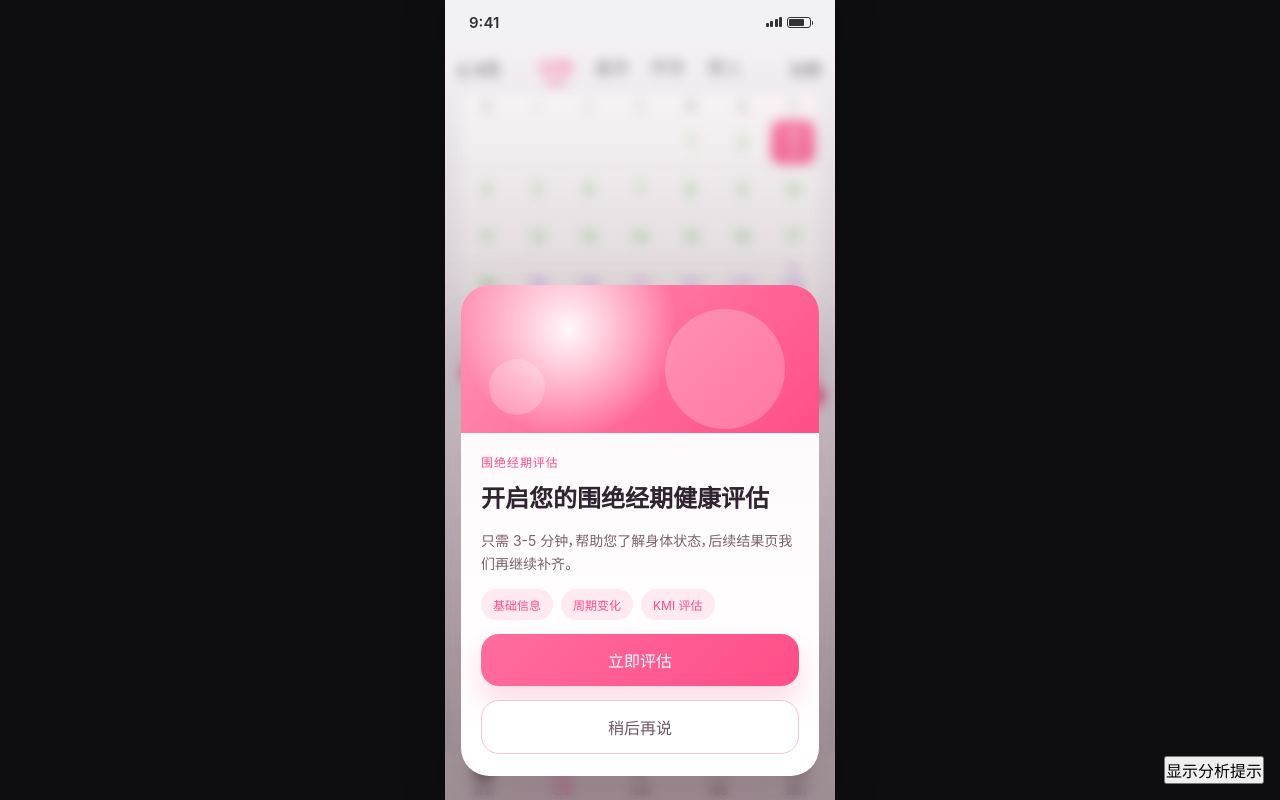
Test: scene1 ui › navigates to the assessment result preview from the scene1 analysis entry
Click the button "稍后再说": (640,727) [481,700,799,754]
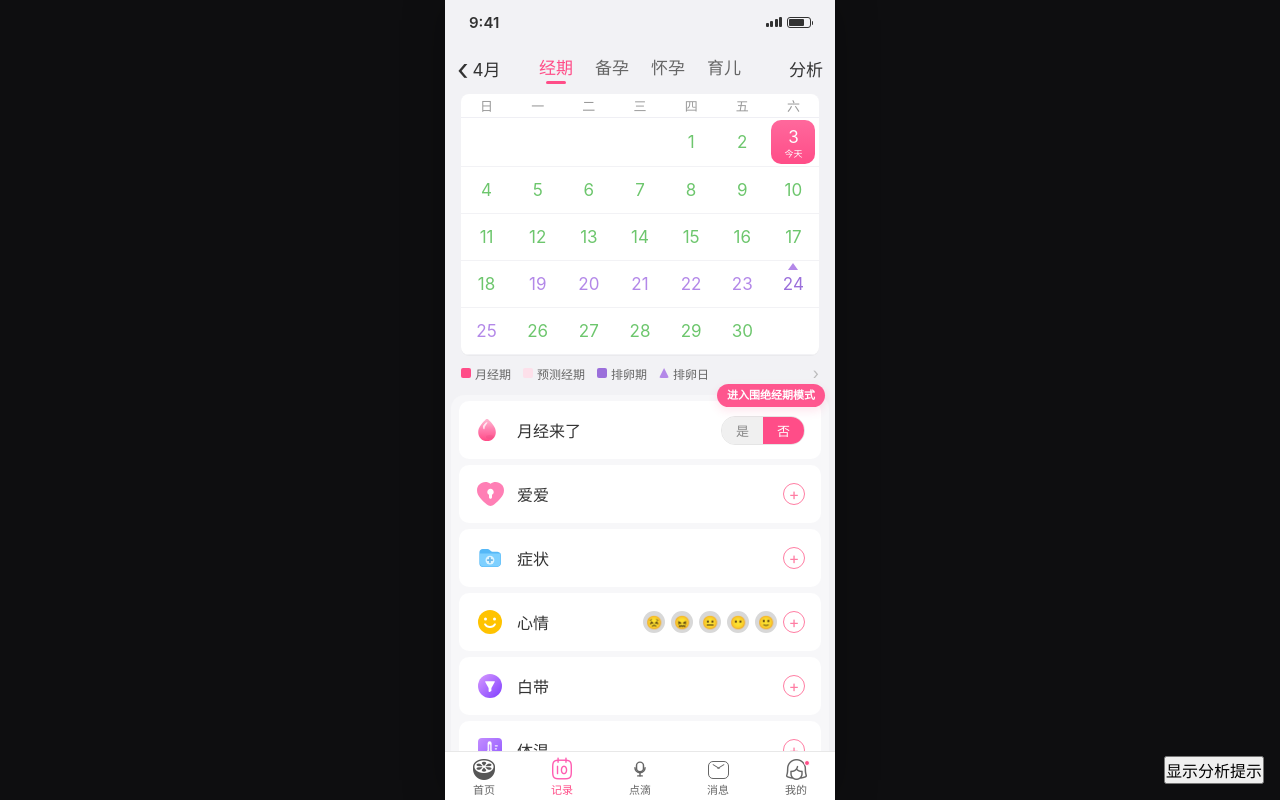
Click the button "分析": (788,70) [750,48,825,92]
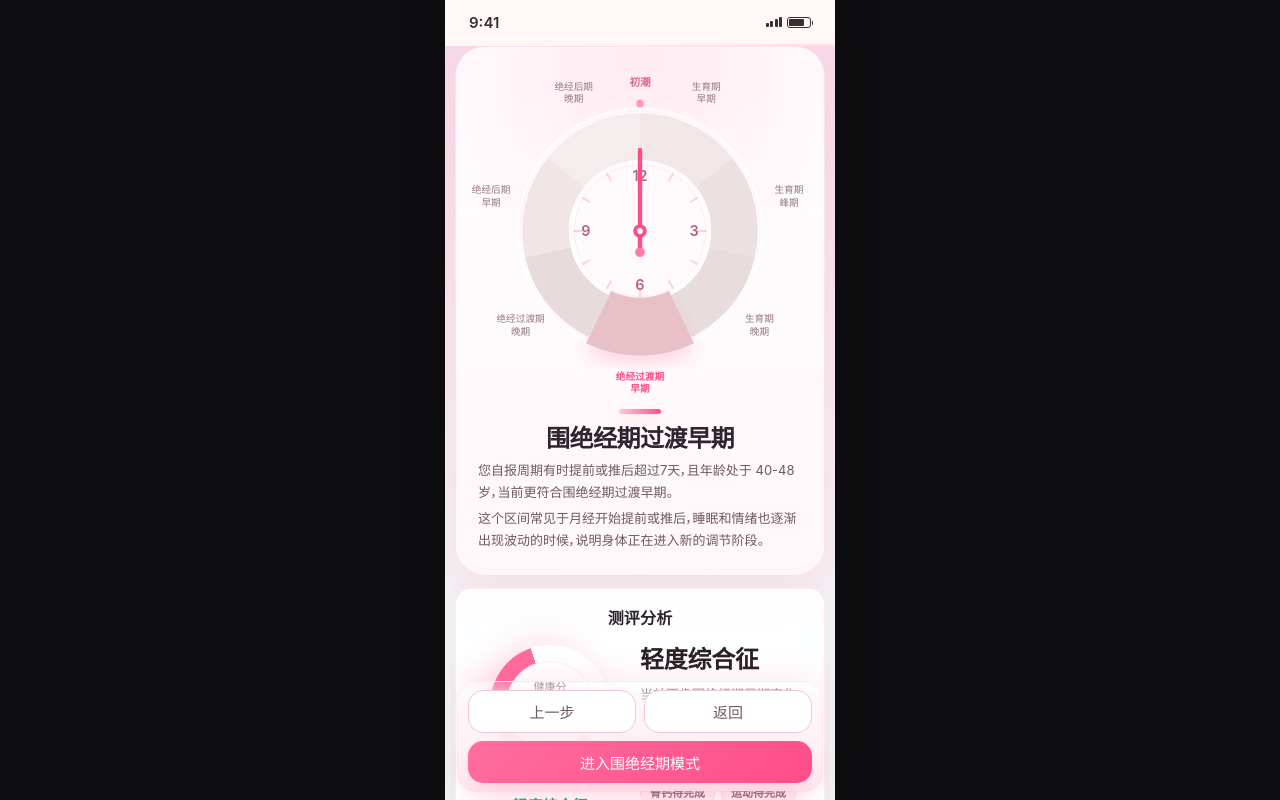
Expected: the element with test id "scene1-assessment-result-route-shell" is shown, [445,0,835,799]
